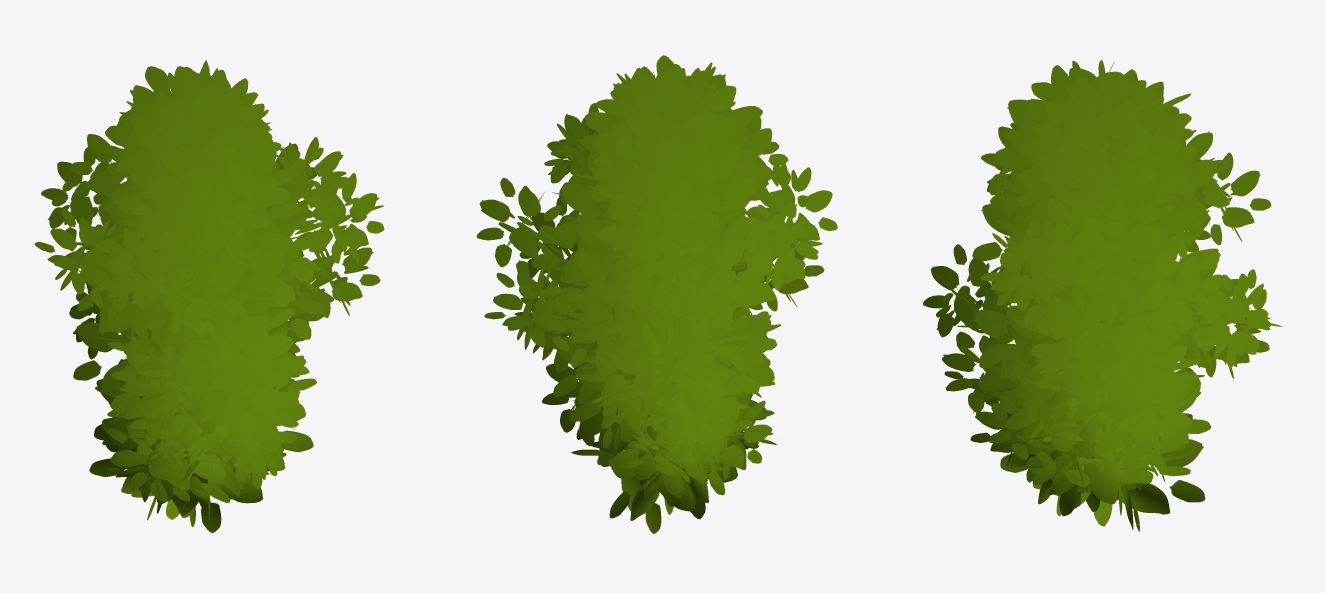
File: nature_bush_long_1.glb
3 renders of one model, left to right at view 1: azimuth 30°, elevation 25°; view 2: azimuth 150°, elevation 25°; view 3: azimuth 270°, elevation 25°, orthographic. The views are drawn at different scales.
Visible parts, largest first — view 1: nature_bush_long_1; view 2: nature_bush_long_1; view 3: nature_bush_long_1.
Boxes of the visible parts, x1,y1,x2,y2 form: nature_bush_long_1: [34, 60, 384, 532]; nature_bush_long_1: [476, 55, 837, 533]; nature_bush_long_1: [923, 60, 1282, 531].
Bounding box in the file's own units: 168 × 237 × 164.
Materials: 1 (1 with a texture image).
